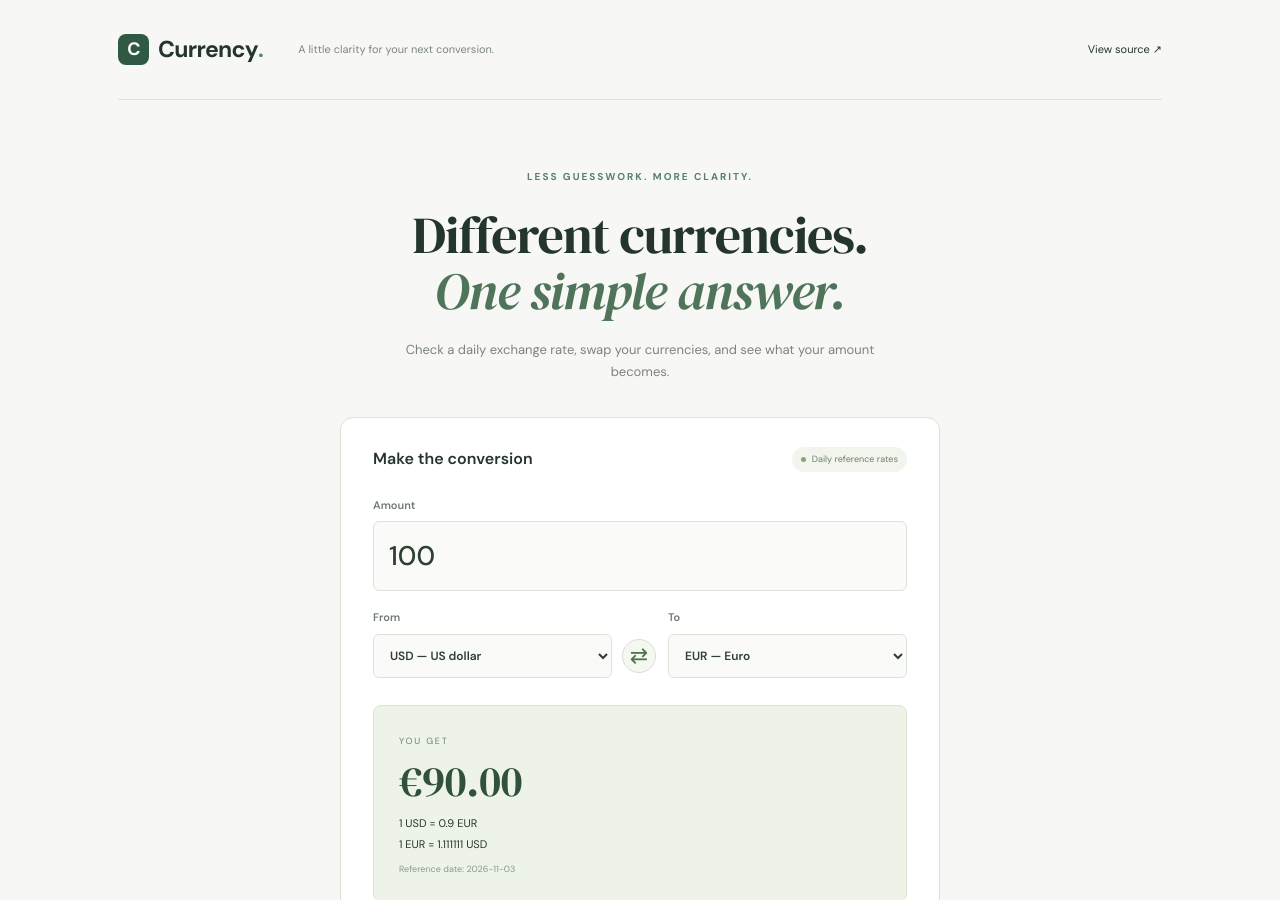
Scenario: same-currency conversion uses one without another network request
The width and height of the screenshot is (1280, 900).
Expected: the text named "Converted amount" is shown, left=399, top=751, right=522, bottom=810
Select "USD — US dollar" in the dropdown named "To currency" at (788, 656), box left=668, top=634, right=907, bottom=678
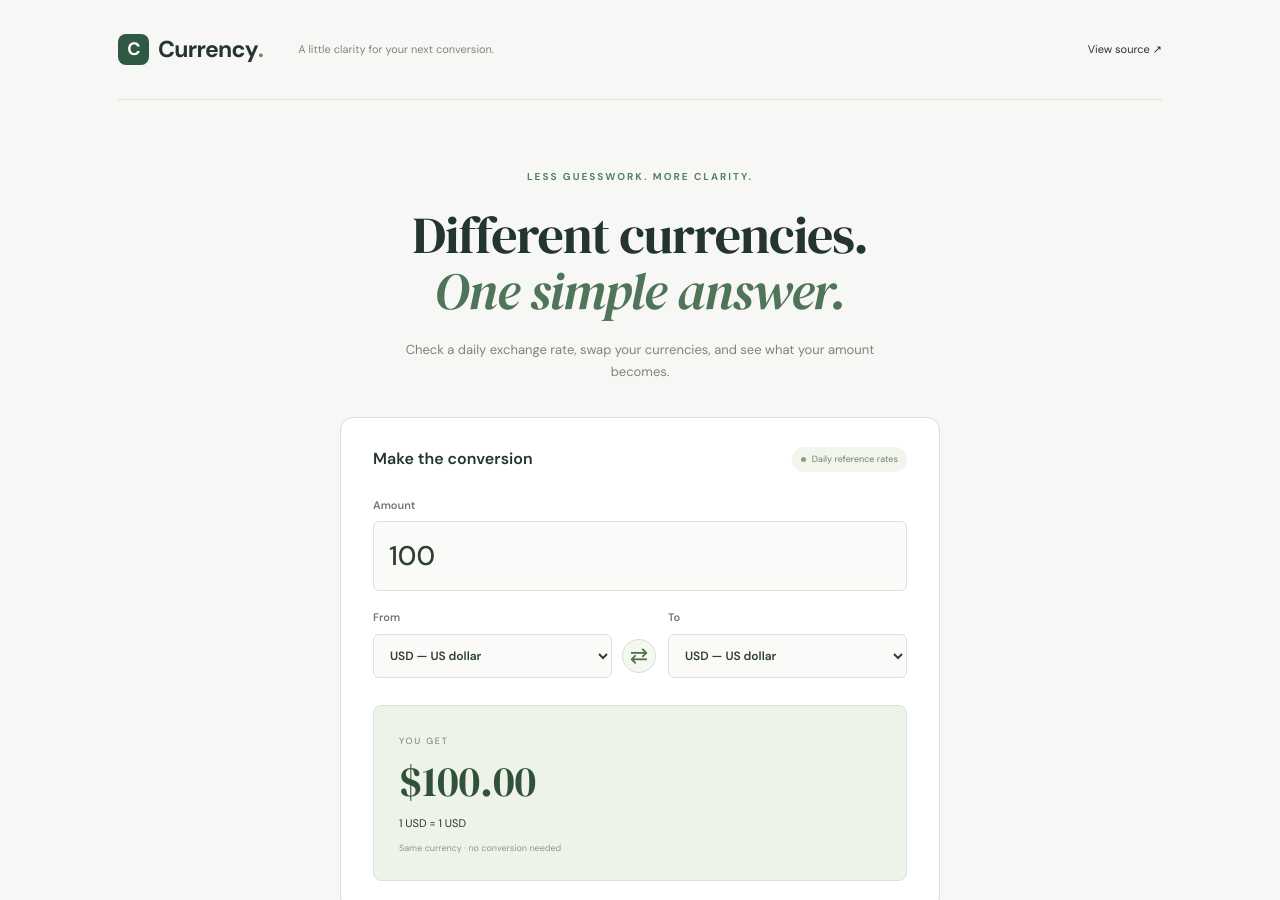
Expected: the text "Same currency · no conversion needed" is shown, left=399, top=842, right=561, bottom=854
Expected: the text named "Converted amount" reads "$100.00", left=399, top=751, right=536, bottom=810
